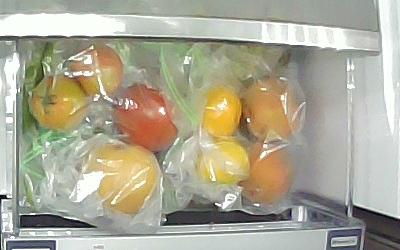peach_vinyl: (235, 72, 298, 142), (238, 140, 293, 202)
pear_vinyl: (89, 142, 159, 214)
tangerine_vinyl: (197, 143, 250, 184), (201, 86, 242, 138)
tomato_vinyl: (109, 80, 180, 151), (27, 72, 88, 128), (68, 43, 123, 96)
